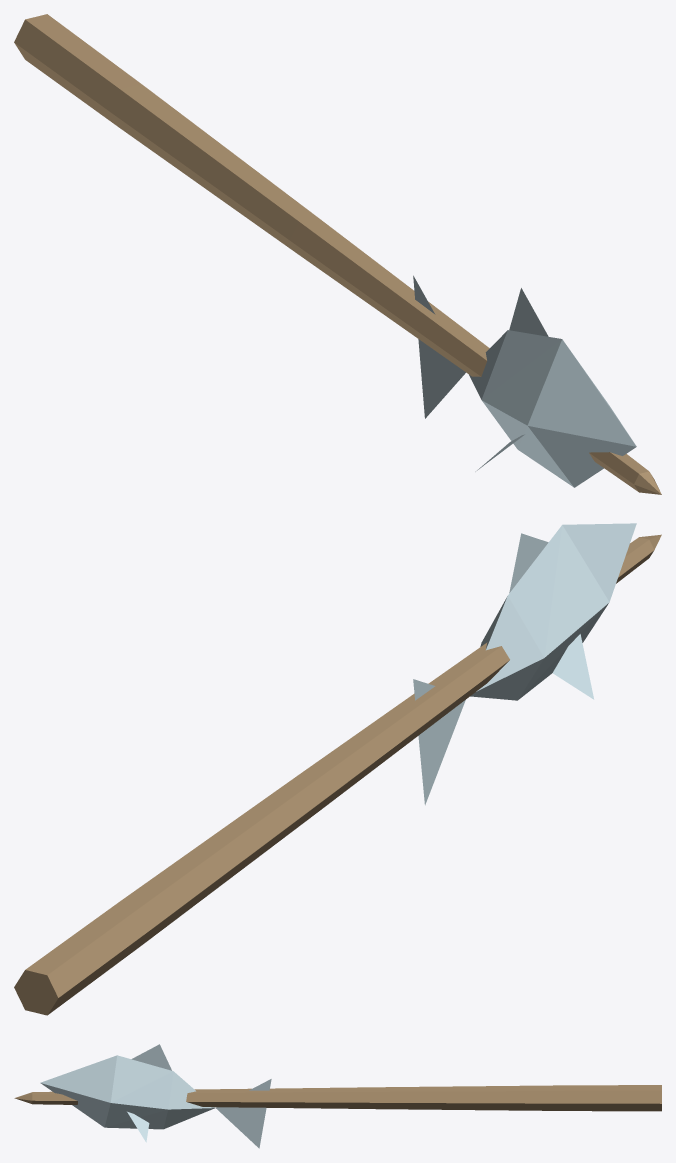
The model's file is fish_on_stick.glb.
3 views of the same model, one above another, from view 1: azimuth 30°, elevation 25°; view 2: azimuth 150°, elevation 25°; view 3: azimuth 270°, elevation 25° (orthographic). The views are drawn at different scales.
Visible parts, largest first — view 1: fish_on_stick; view 2: fish_on_stick; view 3: fish_on_stick.
Part boxes in pixels (box(x1,y1,x2,y2)): fish_on_stick: box(14, 14, 661, 494); fish_on_stick: box(14, 523, 661, 1015); fish_on_stick: box(14, 1044, 661, 1148).
Size of the model in its own units: 0.176 by 0.2826 by 1.59.
